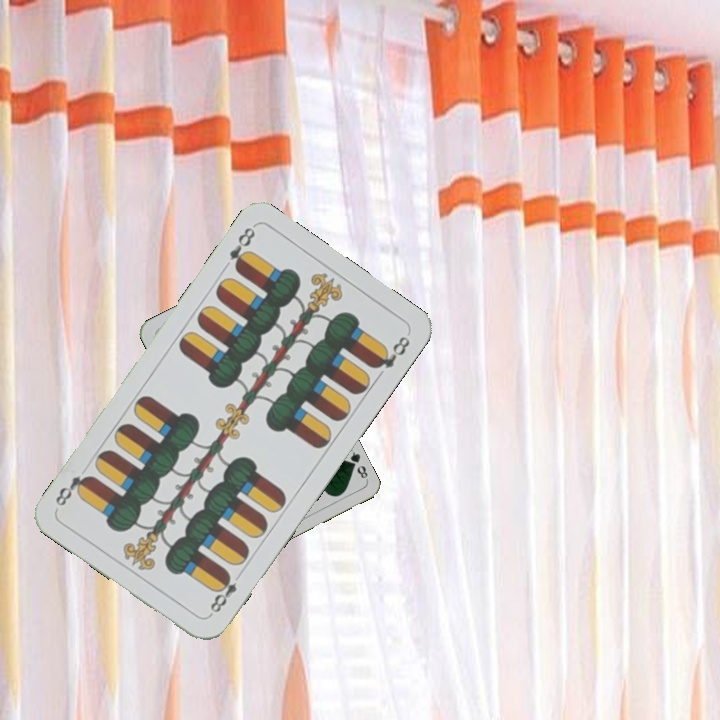E8: (205, 568, 240, 619), (225, 223, 258, 275)
G8: (343, 444, 371, 483)
